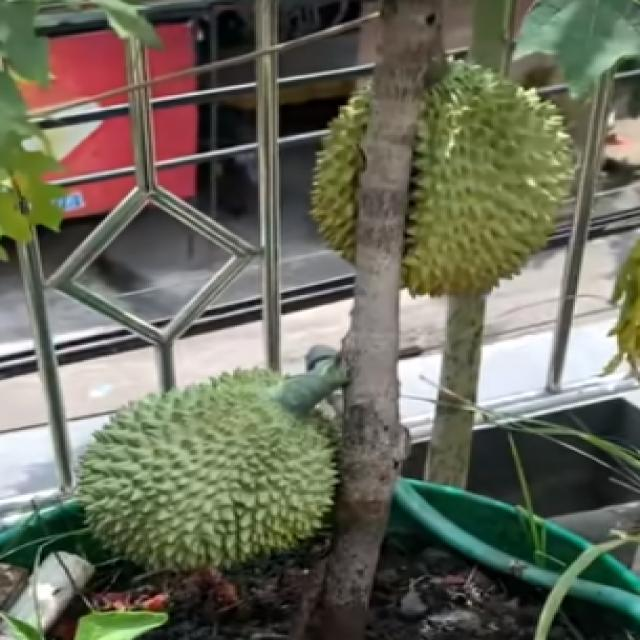immature: (309, 49, 577, 296), (70, 367, 350, 573)
